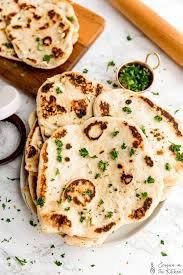Naan: (22, 71, 183, 242)
